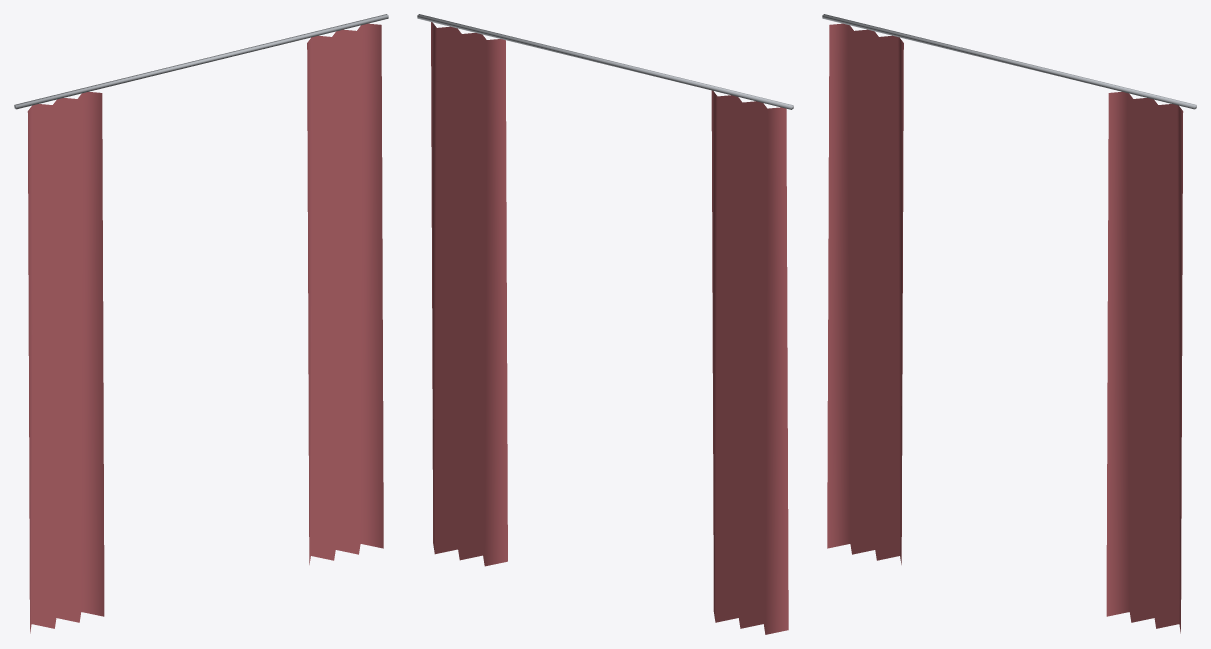
The model's file is city_curtain_coral.glb.
3 views of the same model, side by side, from view 1: azimuth 30°, elevation 25°; view 2: azimuth 150°, elevation 25°; view 3: azimuth 330°, elevation 25° (orthographic).
Visible parts, largest first — view 1: CityCurtainCoral_PanelL, CityCurtainCoral_PanelR, CityCurtainCoral_Rod; view 2: CityCurtainCoral_PanelL, CityCurtainCoral_PanelR, CityCurtainCoral_Rod; view 3: CityCurtainCoral_PanelL, CityCurtainCoral_PanelR, CityCurtainCoral_Rod.
Part boxes in pixels (x1,y1,x2,y2): CityCurtainCoral_PanelL: (27, 92, 104, 633); CityCurtainCoral_PanelR: (307, 23, 383, 564); CityCurtainCoral_Rod: (14, 14, 388, 109); CityCurtainCoral_PanelL: (711, 90, 788, 634); CityCurtainCoral_PanelR: (431, 22, 507, 566); CityCurtainCoral_Rod: (417, 14, 793, 109); CityCurtainCoral_PanelL: (827, 23, 903, 564); CityCurtainCoral_PanelR: (1106, 92, 1183, 633); CityCurtainCoral_Rod: (822, 14, 1196, 109).
Size of the model in its own units: 2 by 2.71 by 0.1.
